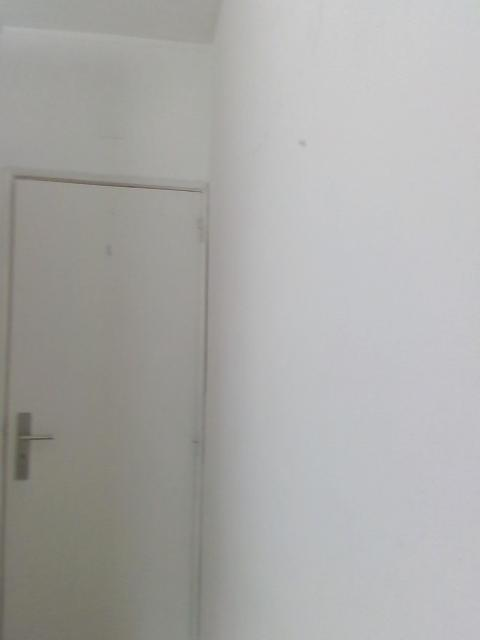closed_door: (2, 174, 210, 639)
